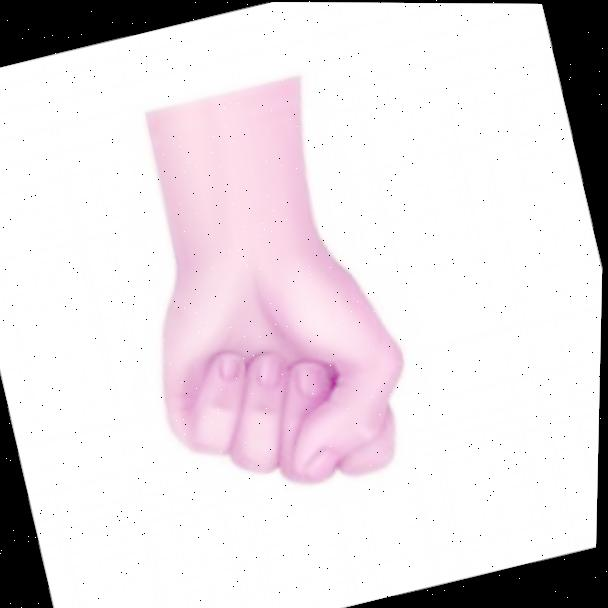five: (113, 150, 439, 531)
